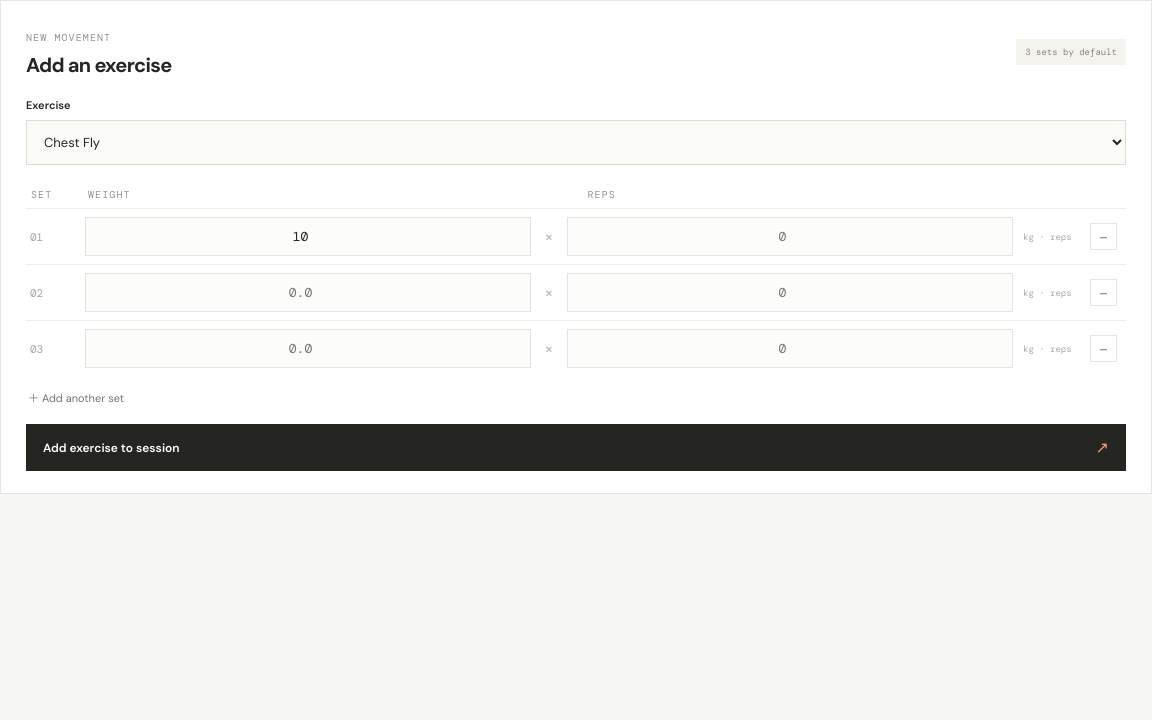
Test: ExerciseEntryForm data entry › rejects invalid precision and invalid rep count before saving
Earlier steps of the test are not shown.
Type "10" into the number field named "Set 1 reps" at point(790, 236), box [567, 217, 1013, 256]
Type "10" into the number field with placeholder "0.0" next to "02" at point(308, 292), box [85, 273, 531, 312]
Type "10" into the number field with placeholder "0" in the row of "02" at point(790, 292), box [567, 273, 1013, 312]
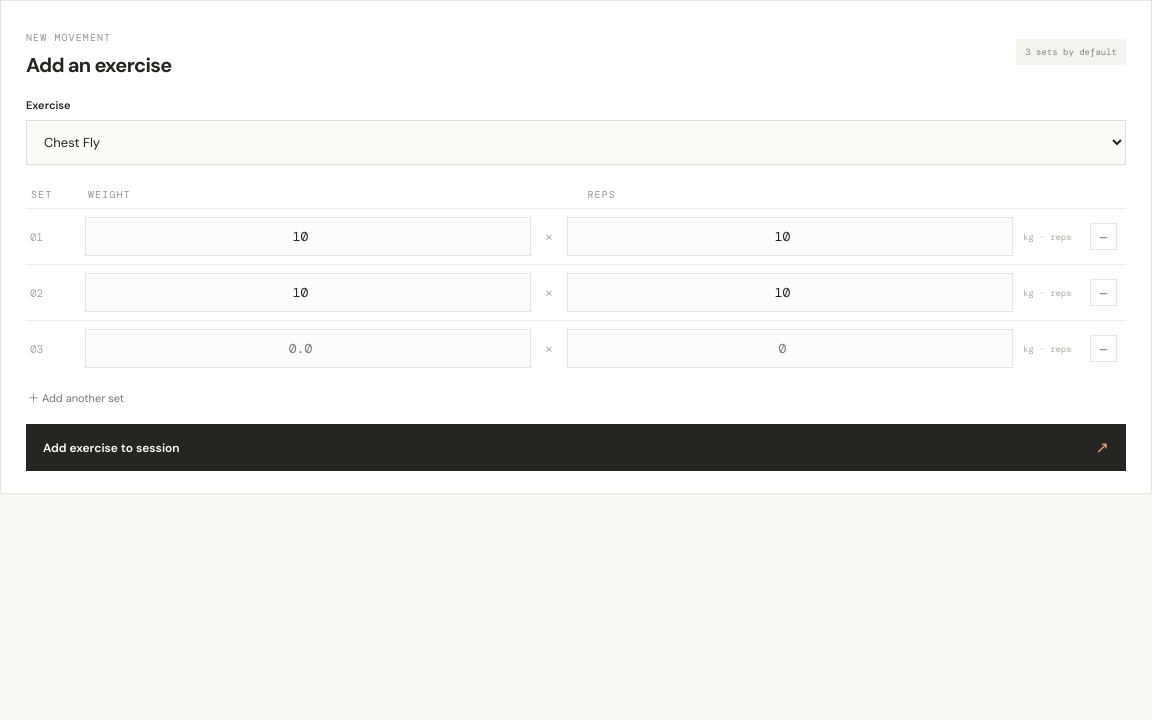
Type "10" into the number field with placeholder "0.0" at point(308, 348), box [85, 329, 531, 368]
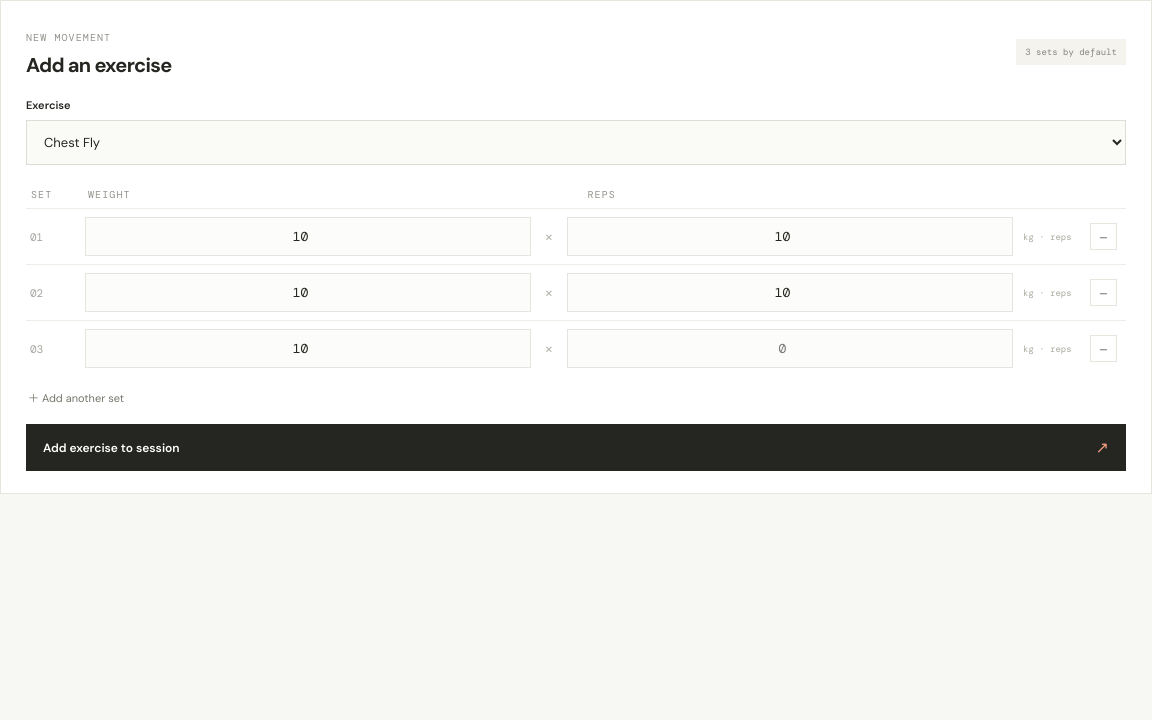
Type "10" into the number field with placeholder "0" at point(790, 348), box [567, 329, 1013, 368]
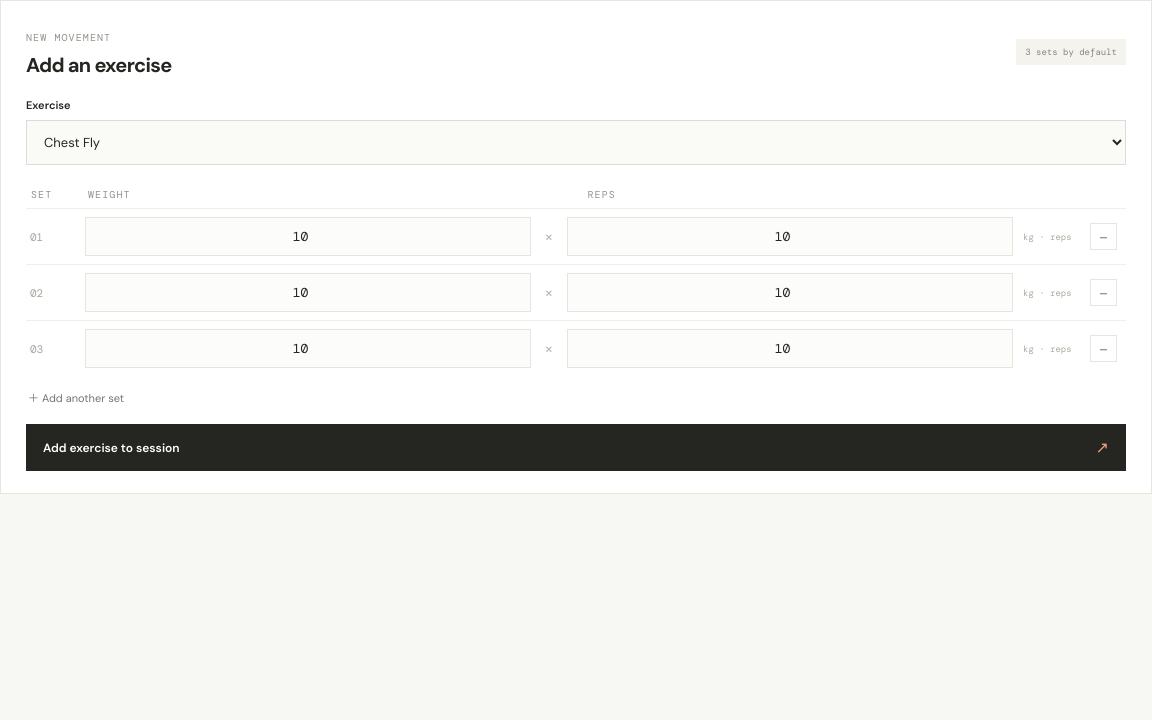
Replace the text in the 1st number field named "Set 1 weight in kilograms" with "12.35" at point(308, 236), box [85, 217, 531, 256]
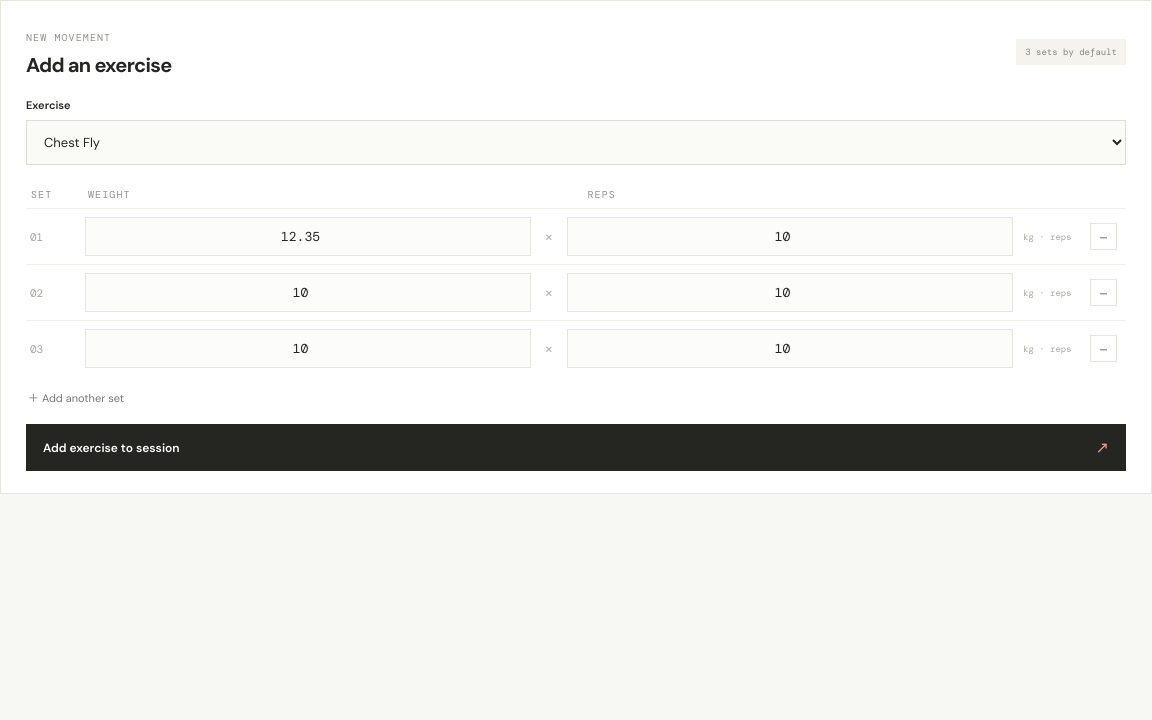
Replace the text in the 2nd number field named "Set 1 reps" with "0" at point(790, 236), box [567, 217, 1013, 256]
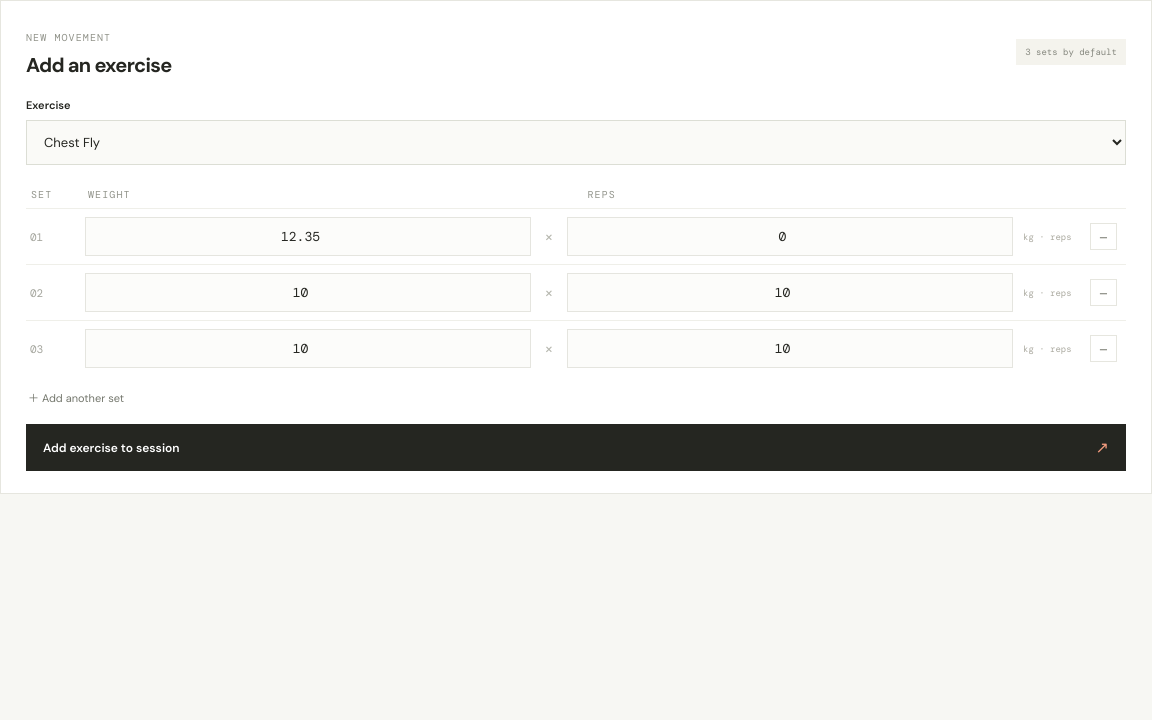
Click the button "Add exercise to session ↗" at point(111, 448), box [26, 424, 1126, 471]
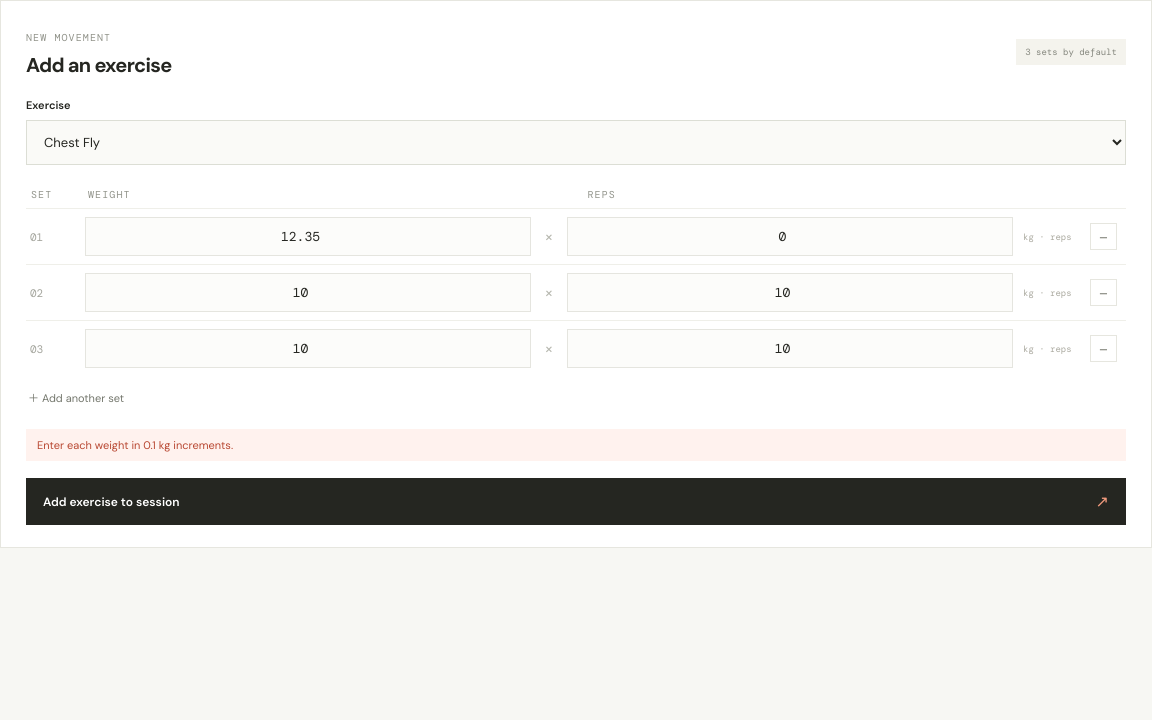
Check: the message shows "0.1 kg increments", box [37, 438, 233, 452]
